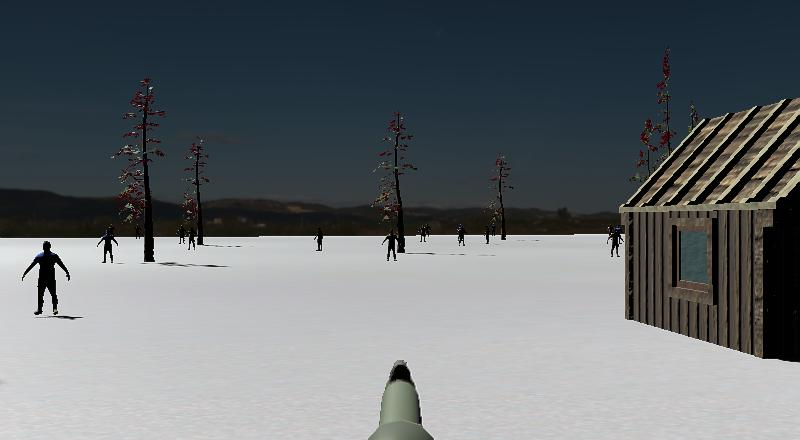House: (594, 74, 800, 377)
Human: (11, 231, 83, 330), (91, 220, 126, 270), (377, 227, 409, 267), (602, 218, 628, 264), (451, 218, 472, 251)
